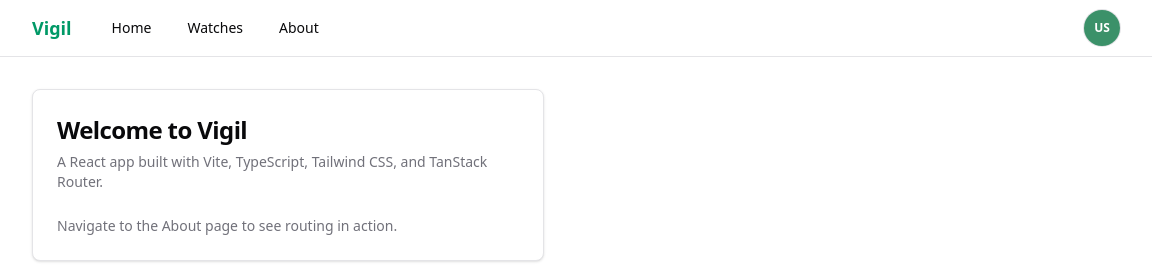
it: App routing › opens the account menu to show email and sign out when authenticated
This screenshot has width=1152, height=279.
What coordinates should you click on to do the following:
click the button with aria-label "signed in as user@example.com"
I would click on:
 (1102, 28)
Its box is [1084,10,1120,46].
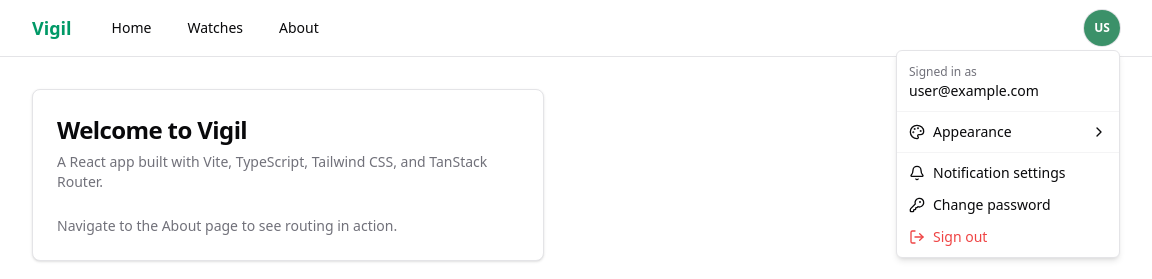
Expected: the text "user@example.com" is shown, [909,81,1039,100]
Expected: the menu item "Sign out" is shown, [909,227,987,246]
